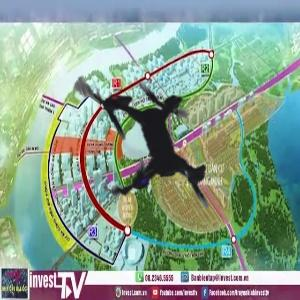drone: (16, 8, 284, 276)
